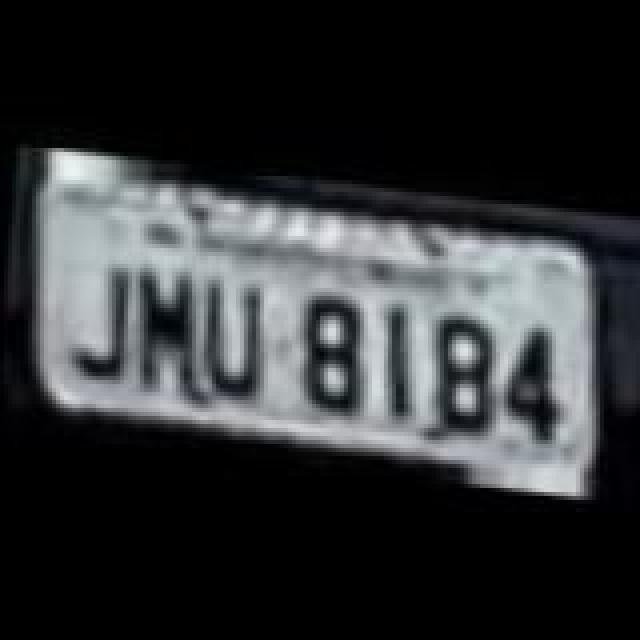1: (366, 298, 418, 418)
4: (490, 316, 566, 440)
8: (288, 286, 372, 410), (426, 310, 502, 434)
J: (62, 252, 134, 376)
M: (124, 256, 208, 392)
U: (188, 268, 264, 400)
